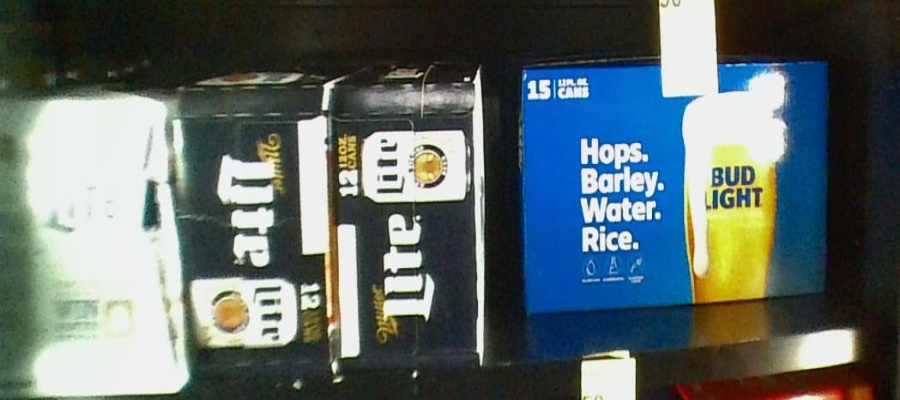bottle: (520, 70, 831, 300), (1, 88, 184, 397), (182, 81, 335, 380), (335, 73, 486, 363)
